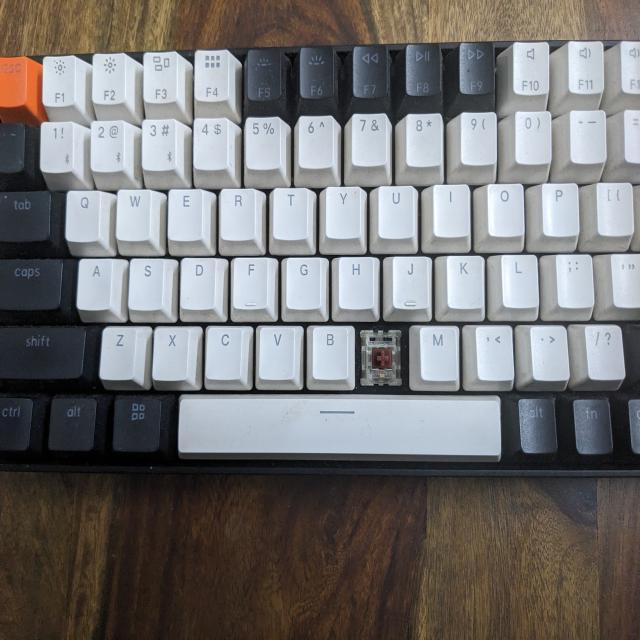C: (359, 326, 402, 385)
